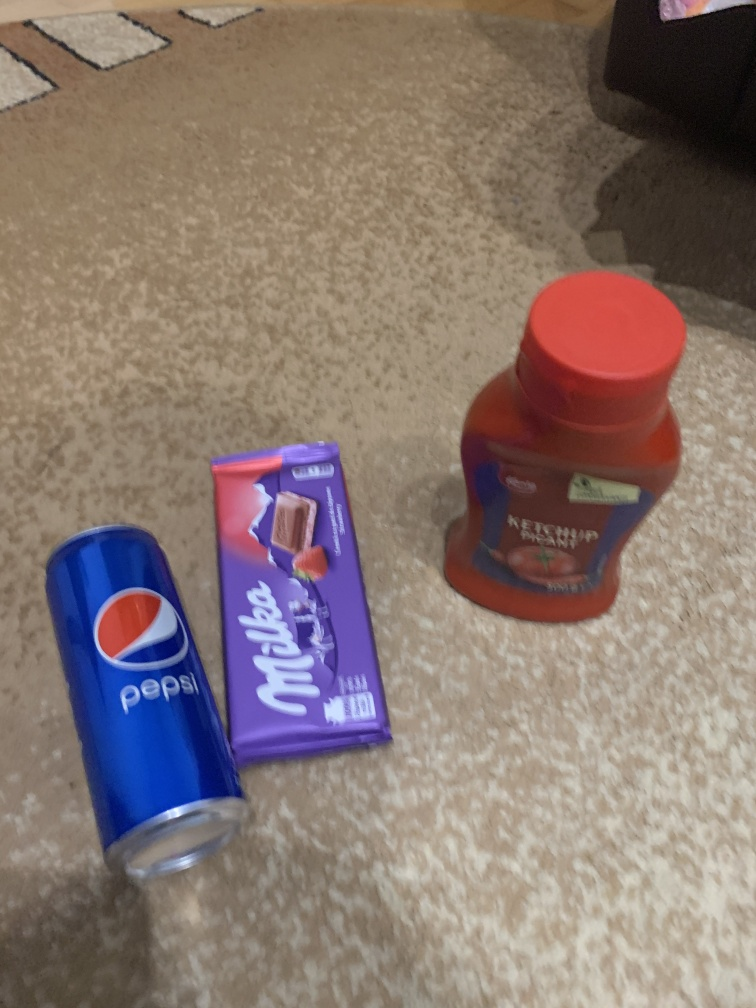ketchup: (431, 268, 691, 645)
milka: (204, 440, 398, 775)
pepsi: (40, 521, 254, 885)
